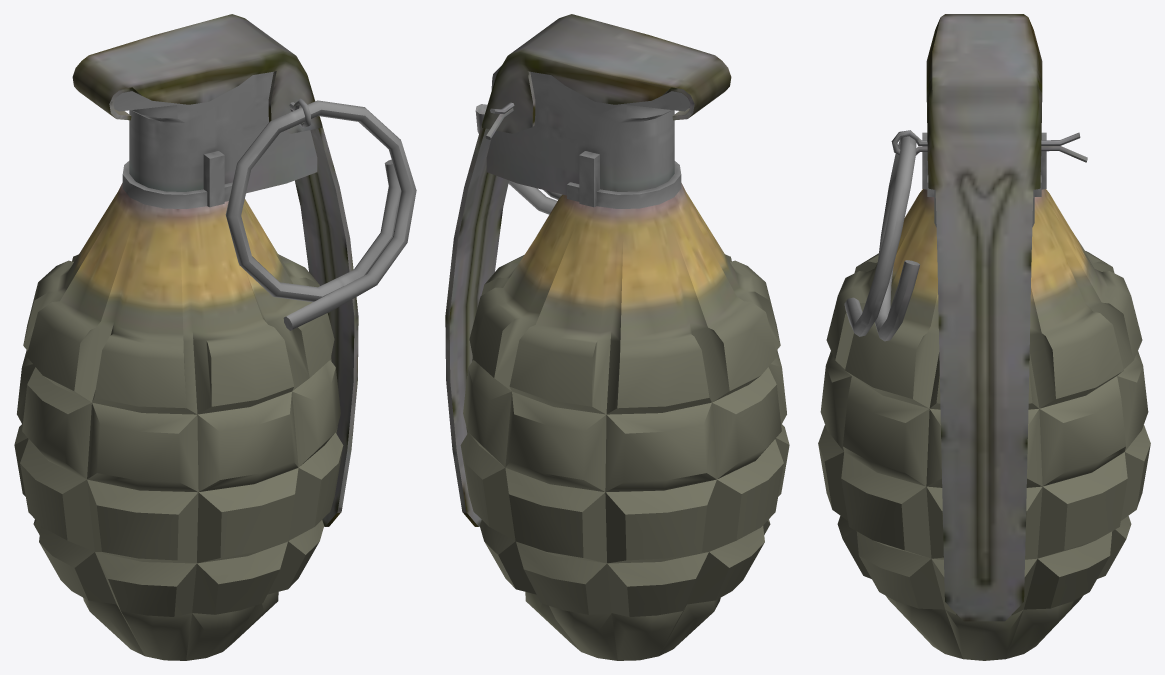
File: prop_frag.c6943ddd99.glb
The picture shows the model from 3 angles, left to right: view 1: azimuth 30°, elevation 25°; view 2: azimuth 150°, elevation 25°; view 3: azimuth 270°, elevation 25°; orthographic projection.
Visible parts, largest first — view 1: Object_2; view 2: Object_2; view 3: Object_2.
Boxes of the visible parts, x1,y1,x2,y2 form: Object_2: (14,14,416,660); Object_2: (445,14,789,660); Object_2: (818,14,1150,660).
Bounding box in the file's own units: 6.7 × 11.4 × 5.84.
1 material, 1 textured.
